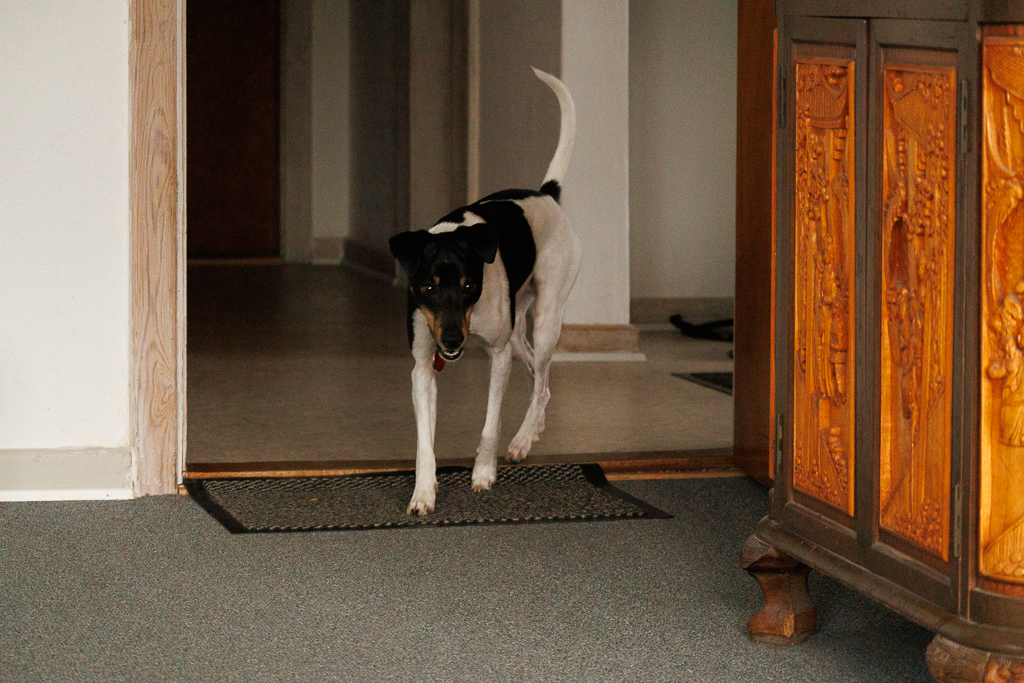Dog: (365, 58, 594, 528)
